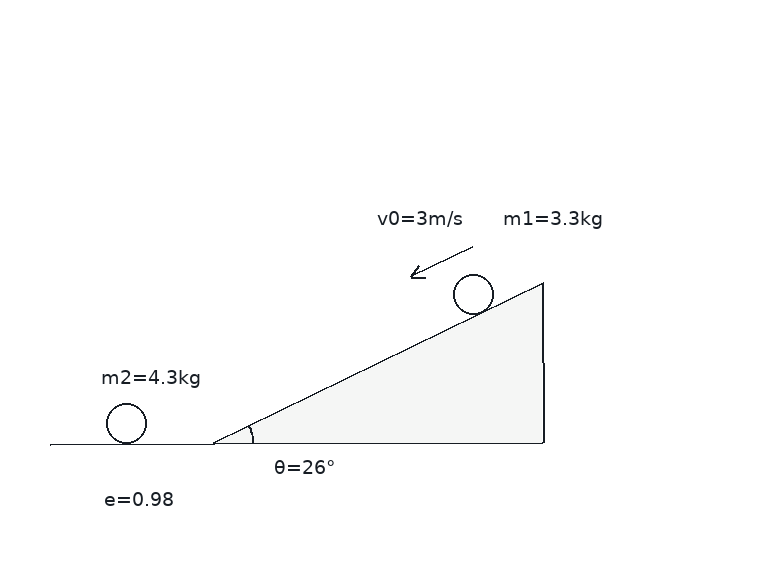ball: (451, 272, 495, 316), (104, 401, 148, 445)
ramp: (211, 281, 544, 445)
